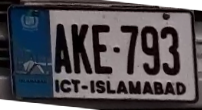3: (159, 24, 182, 78)
7: (118, 22, 140, 76)
9: (138, 23, 162, 77)
A: (50, 23, 73, 76)
E: (91, 22, 115, 77)
K: (71, 21, 93, 76)
